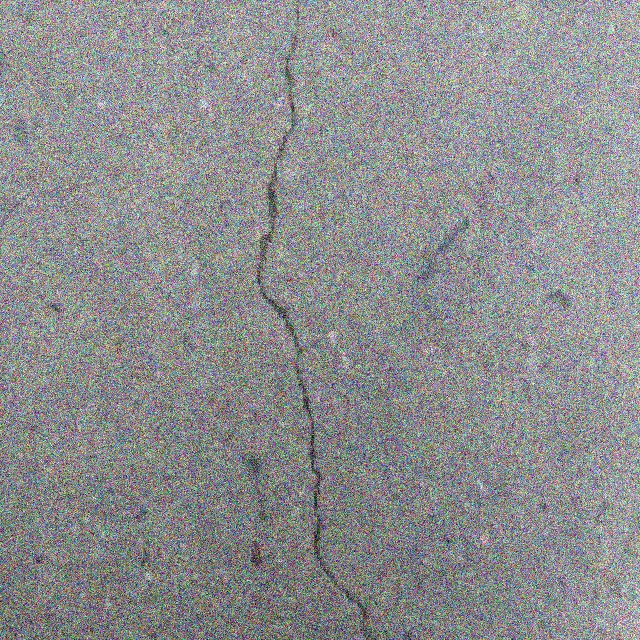SurfaceCrack: (222, 0, 406, 640)
